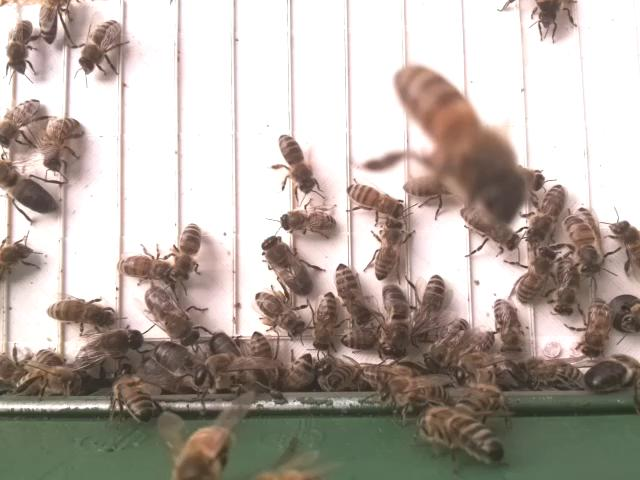Drone: (258, 231, 316, 298), (142, 283, 203, 345), (152, 337, 211, 391), (74, 326, 144, 371), (0, 161, 56, 217), (380, 279, 414, 363), (579, 356, 640, 395)
Worker: (253, 287, 308, 338), (526, 182, 567, 247), (425, 316, 473, 370), (277, 131, 316, 196), (80, 19, 125, 75), (43, 295, 117, 328), (564, 214, 602, 278), (373, 219, 410, 283), (514, 248, 556, 303), (40, 114, 80, 171), (494, 295, 532, 355), (413, 272, 447, 339), (578, 294, 612, 361), (0, 95, 42, 149), (334, 260, 370, 323), (170, 221, 204, 283), (343, 181, 404, 215), (116, 251, 181, 282), (552, 255, 583, 319), (5, 17, 35, 77), (313, 293, 343, 353), (278, 207, 338, 236)
